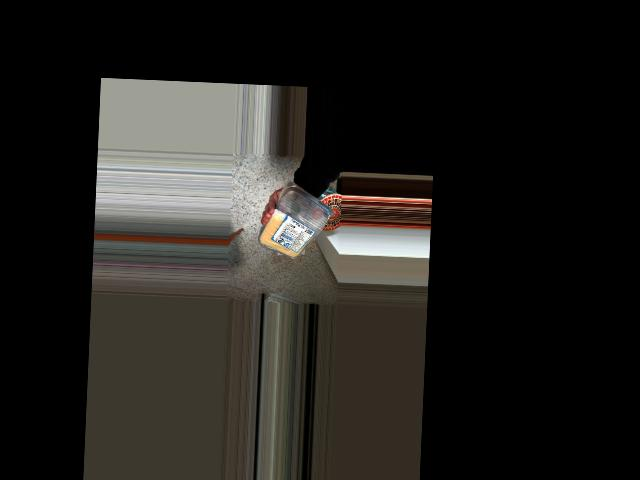cheese: (262, 198, 337, 262)
